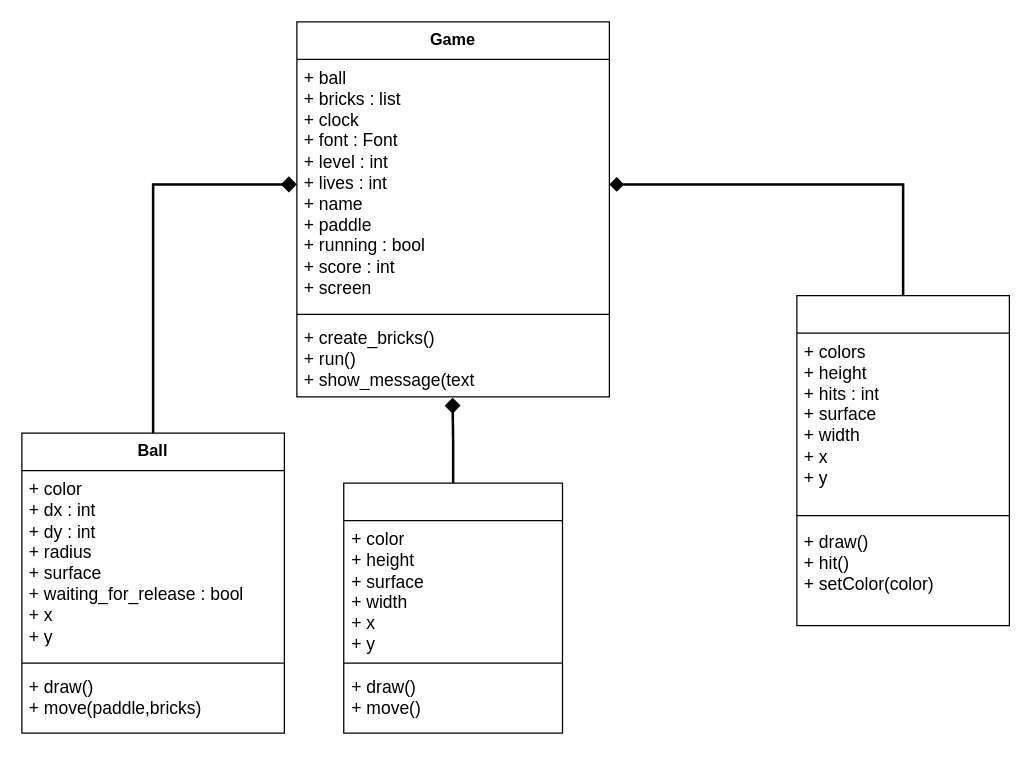
The diagram is 1031 pixels wide and 759 high, and some of its shapes have lost their labels. Here are the shapes that lost their labels. From the top down, the box of each, then its label:
(796, 294, 1009, 626): Brick
(342, 482, 562, 733): Paddle
